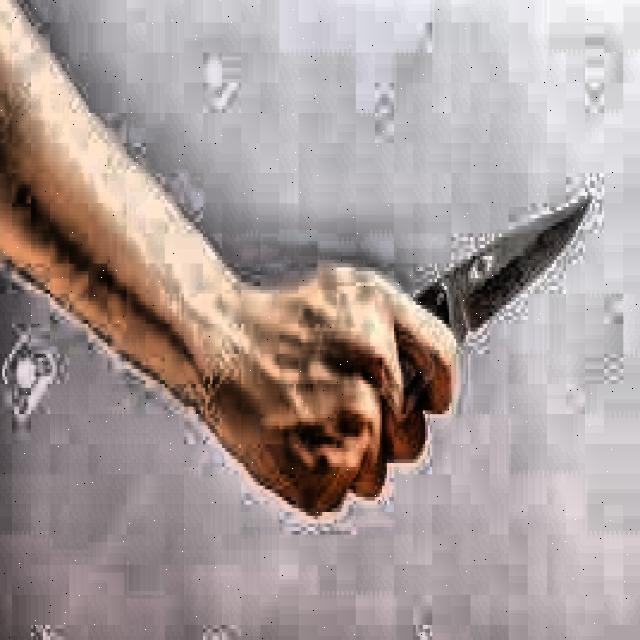knife: (397, 196, 594, 397)
